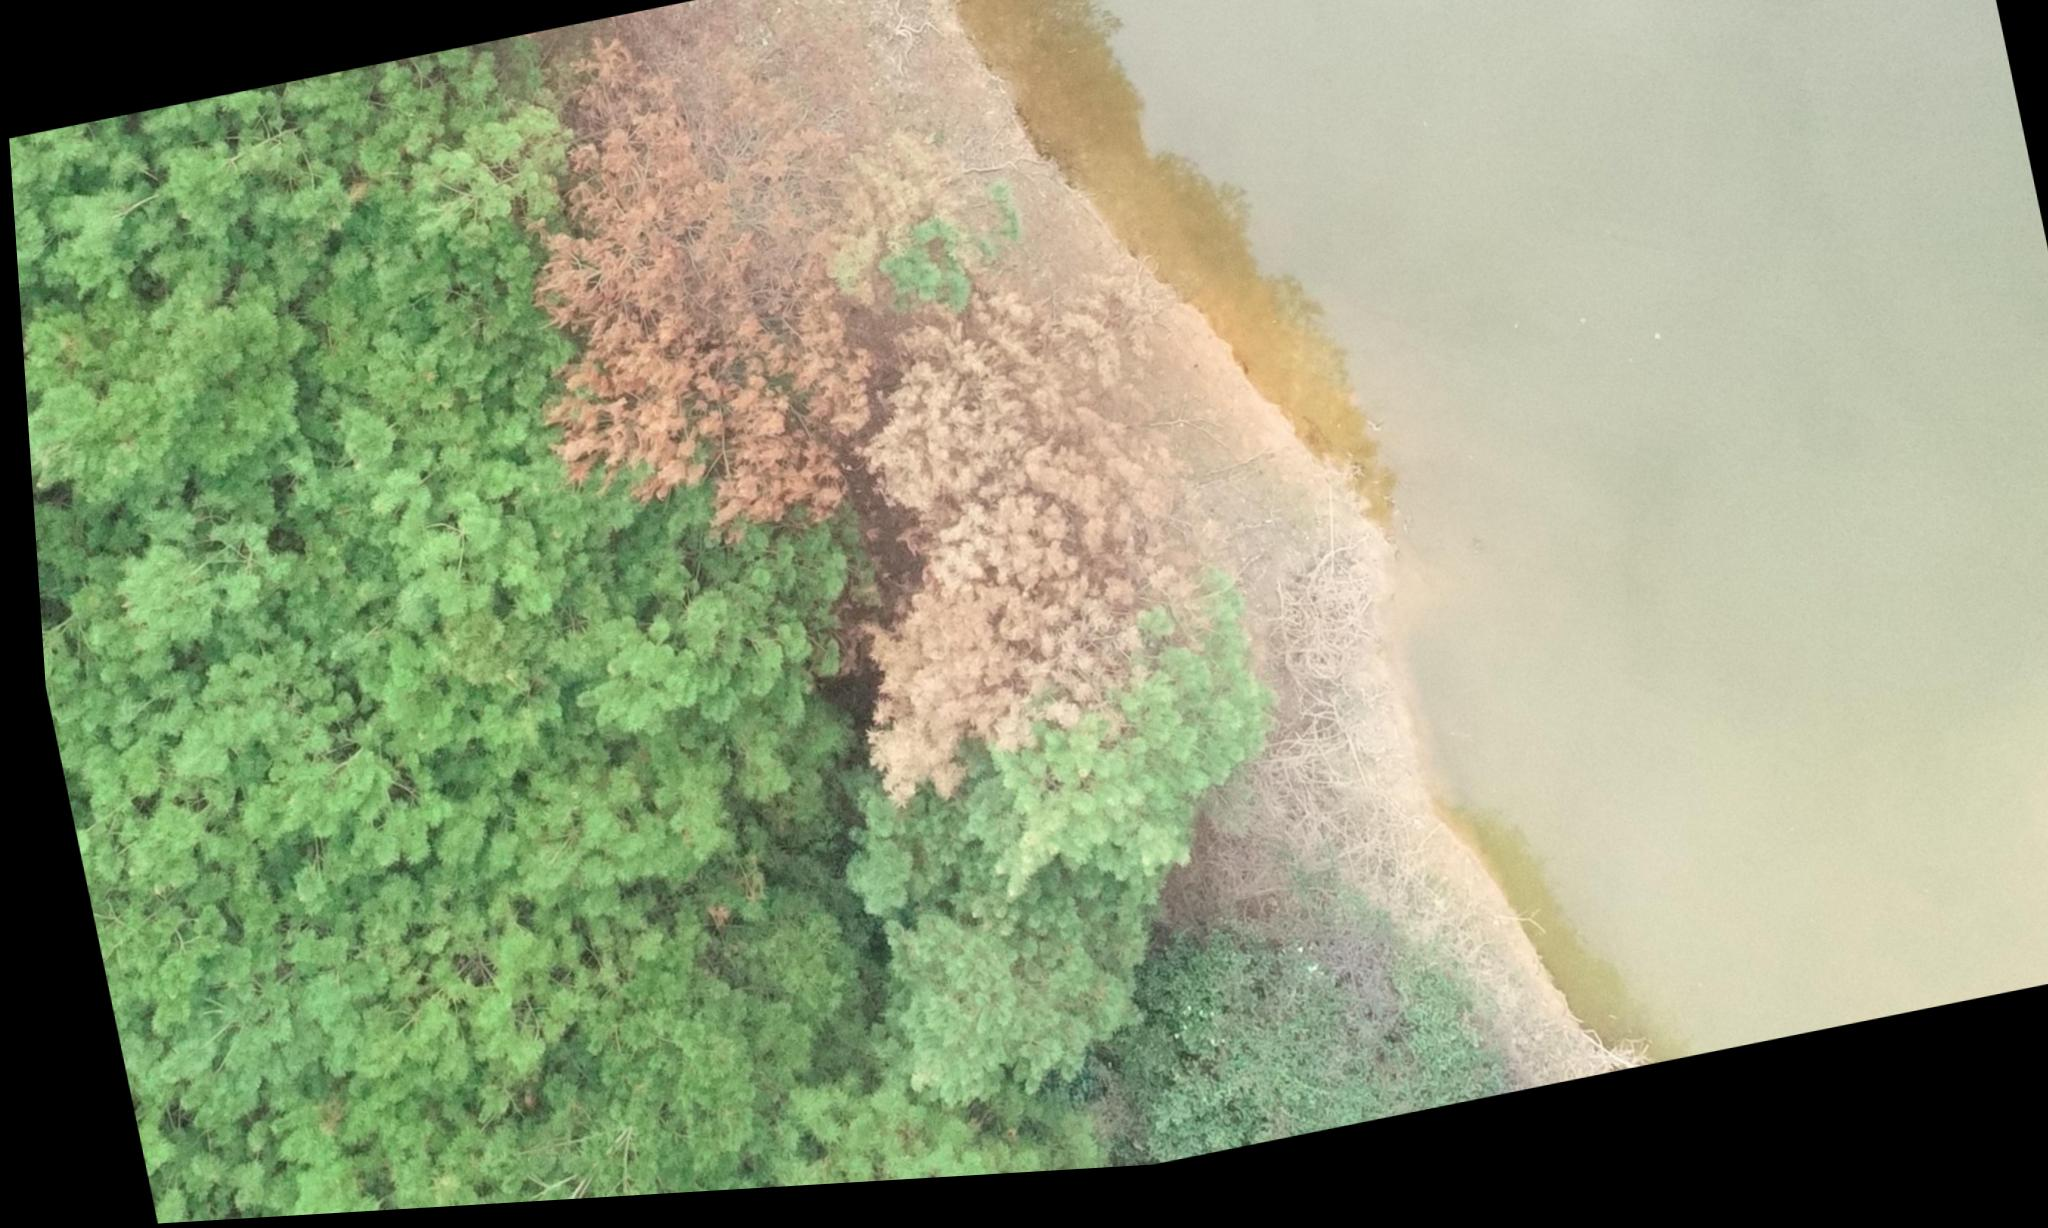heavy: (463, 0, 978, 579), (779, 294, 1270, 813)
